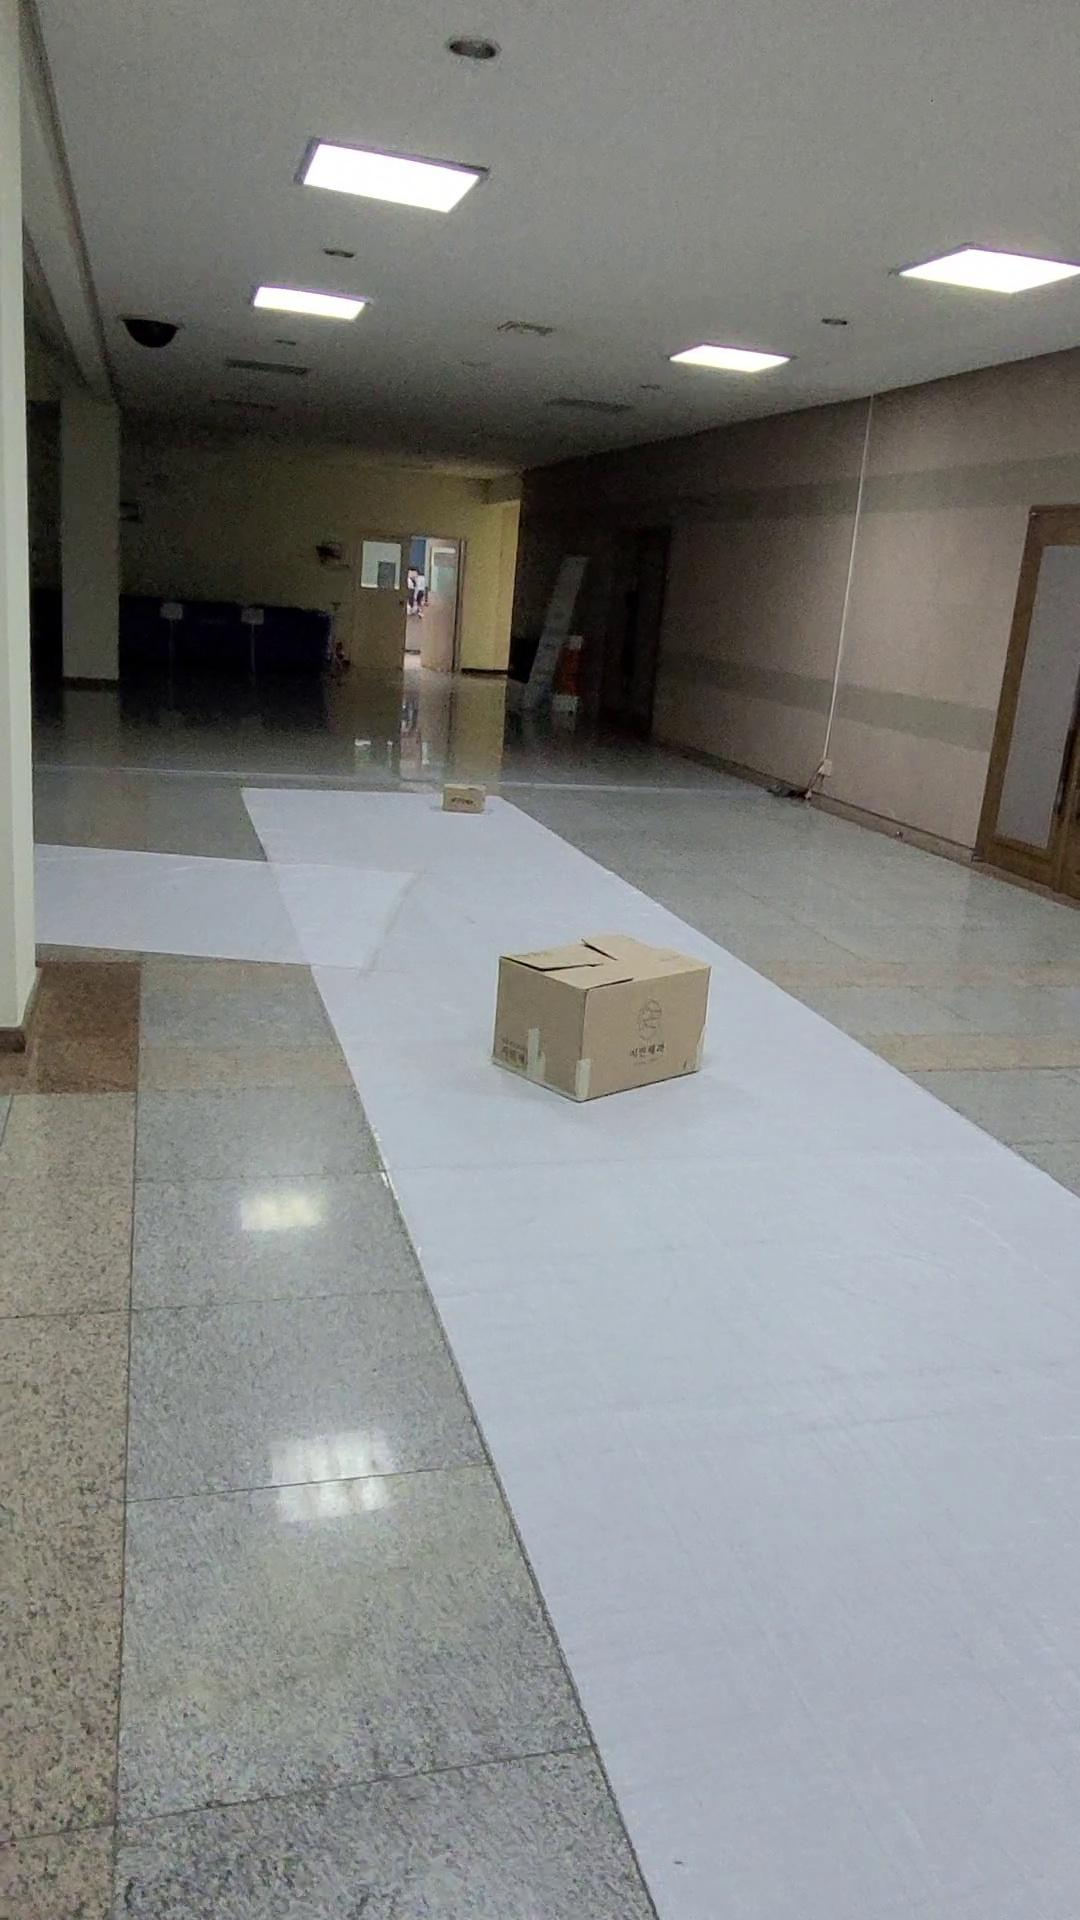Box: (483, 910, 719, 1122)
